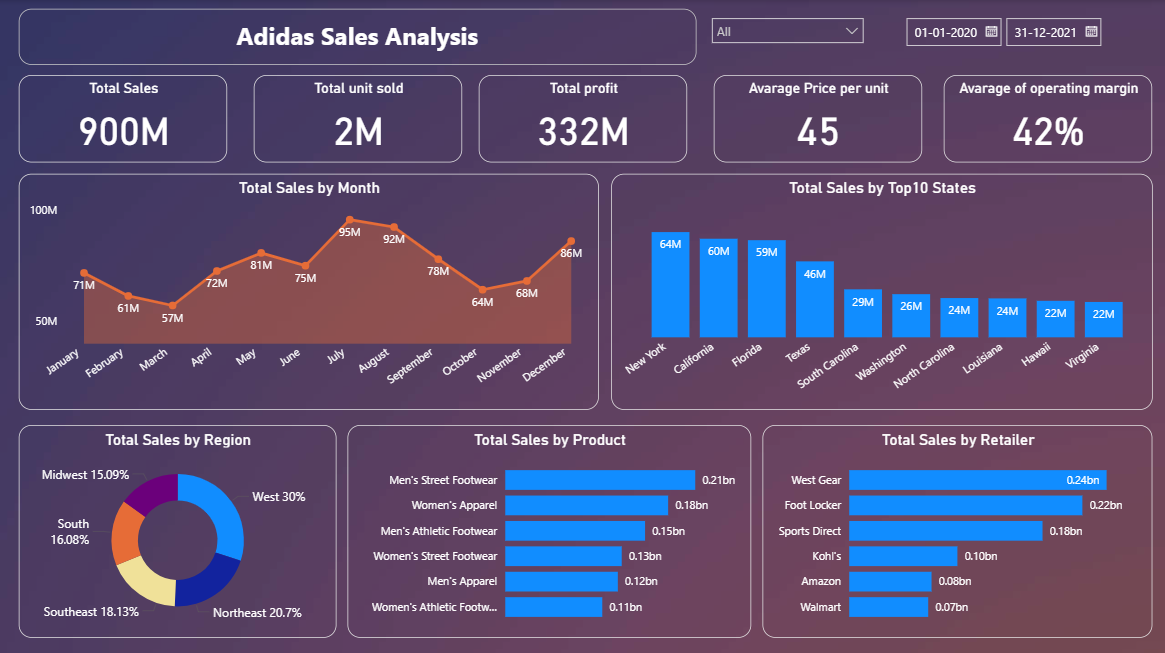

Layout of this report page (visuals, bound fields, positions):
{"tool":"powerbi","page":{"name":"Page 1","canvas":[1280,720],"ordinal":0},"visuals":[{"type":"card","title":"Total Sales","fields":{"Values":["Sum(Data Sales Adidas.Total Sales)"]},"box":[20.6,82.3,229.2,96.1],"z":0},{"type":"donutChart","title":" Total Sales by Region","fields":{"Category":["Data Sales Adidas.Region"],"Y":["Sum(Data Sales Adidas.Total Sales)"]},"box":[20.6,466.6,348.5,233.3],"z":1000},{"type":"clusteredBarChart","title":" Total Sales by Product","fields":{"Y":["Sum(Data Sales Adidas.Total Sales)"],"Category":["Data Sales Adidas.Product"]},"box":[381.5,466.6,443.2,233.3],"z":2000},{"type":"clusteredBarChart","title":" Total Sales by Retailer","fields":{"Category":["Data Sales Adidas.Retailer"],"Y":["Sum(Data Sales Adidas.Total Sales)"]},"box":[837.1,466.6,428.1,233.3],"z":3000},{"type":"stackedAreaChart","title":"Total Sales by Month","fields":{"Y":["Sum(Data Sales Adidas.Total Sales)"],"Category":["Data Sales Adidas.Invoice Date.Variation.Date Hierarchy.Month"]},"box":[20.6,190.7,636.7,259.3],"z":4000},{"type":"clusteredColumnChart","title":"Total Sales by Top10 States","fields":{"Category":["Data Sales Adidas.State"],"Y":["Sum(Data Sales Adidas.Total Sales)"]},"box":[671,190.7,594.2,259.3],"z":5000},{"type":"textbox","box":[20.6,9.6,743.7,61.7],"z":6000},{"type":"card","title":"Total unit sold","fields":{"Values":["Sum(Data Sales Adidas.Units Sold)"]},"box":[278.6,82.3,229.2,96.1],"z":7000},{"type":"card","title":"Avarage of operating margin","fields":{"Values":["Avg(Data Sales Adidas.Operating Margin)"]},"box":[1036,82.3,229.2,96.1],"z":8000},{"type":"card","title":"Total profit","fields":{"Values":["Sum(Data Sales Adidas.Operating Profit)"]},"box":[525.6,82.3,229.2,96.1],"z":9000},{"type":"card","title":"Avarage Price per unit","fields":{"Values":["Avg(Data Sales Adidas.Price per Unit)"]},"box":[783.5,82.3,229.2,96.1],"z":10000},{"type":"slicer","fields":{"Values":["Data Sales Adidas.Region"]},"box":[771.2,9.6,186.6,61.7],"z":10001},{"type":"slicer","fields":{"Values":["Data Sales Adidas.Invoice Date"]},"box":[982.5,9.6,282.7,61.7],"z":10002}]}

Visuals, with their boxes in screenshot pixels (x1, y1, x2, y2), scaled from the page's 1280x720 canvas onto the 1165x653 screenshot:
"Total Sales" card: <box>19,75,227,162</box>
" Total Sales by Region" donutChart: <box>19,423,336,635</box>
" Total Sales by Product" clusteredBarChart: <box>347,423,751,635</box>
" Total Sales by Retailer" clusteredBarChart: <box>762,423,1152,635</box>
"Total Sales by Month" stackedAreaChart: <box>19,173,598,408</box>
"Total Sales by Top10 States" clusteredColumnChart: <box>611,173,1152,408</box>
textbox: <box>19,9,696,65</box>
"Total unit sold" card: <box>254,75,462,162</box>
"Avarage of operating margin" card: <box>943,75,1152,162</box>
"Total profit" card: <box>478,75,687,162</box>
"Avarage Price per unit" card: <box>713,75,922,162</box>
slicer - Data Sales Adidas.Region: <box>702,9,872,65</box>
slicer - Data Sales Adidas.Invoice Date: <box>894,9,1152,65</box>
